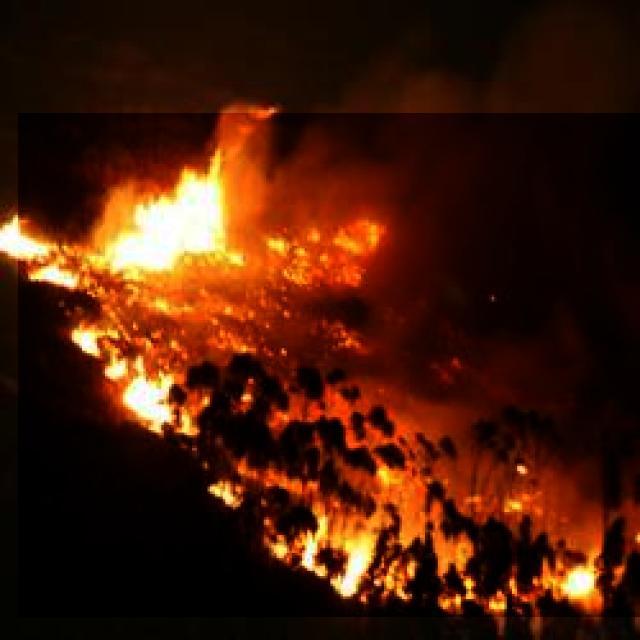Fire: (18, 113, 640, 617)
